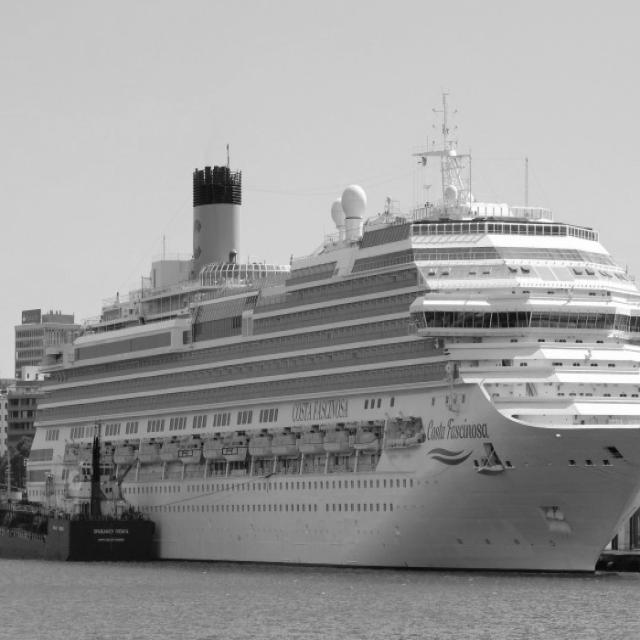cruises: (24, 97, 640, 590)
